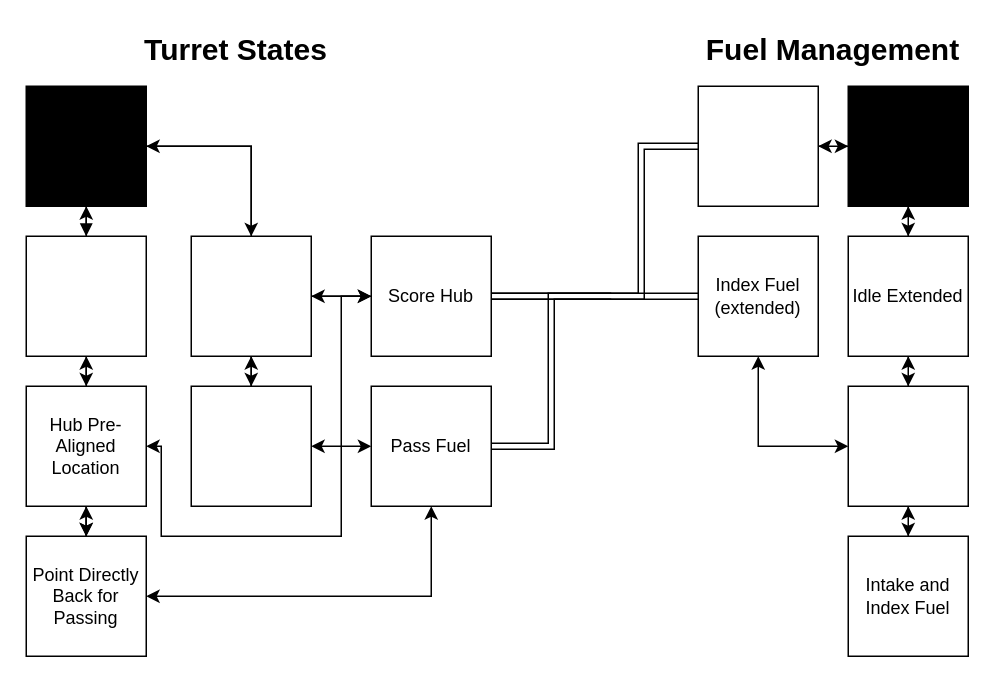
Image size: 995x683. Some labels were removed from this diagram. The shapes that lost their labels are listed below. From the top down, each one's centre as x and y in pixels, then its label:
[757,145]: Index Fuel (retracted)
[85,295]: Manual
[250,295]: Auto-Aim for Hub
[250,445]: Auto-Aim for Passing
[907,445]: Intake Fuel
